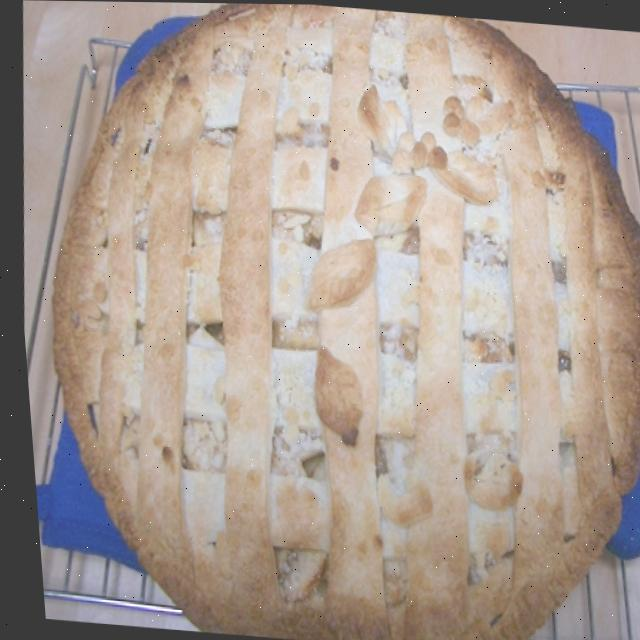炸货点心: (12, 0, 640, 640)
蛋糕甜品: (12, 0, 640, 640)
